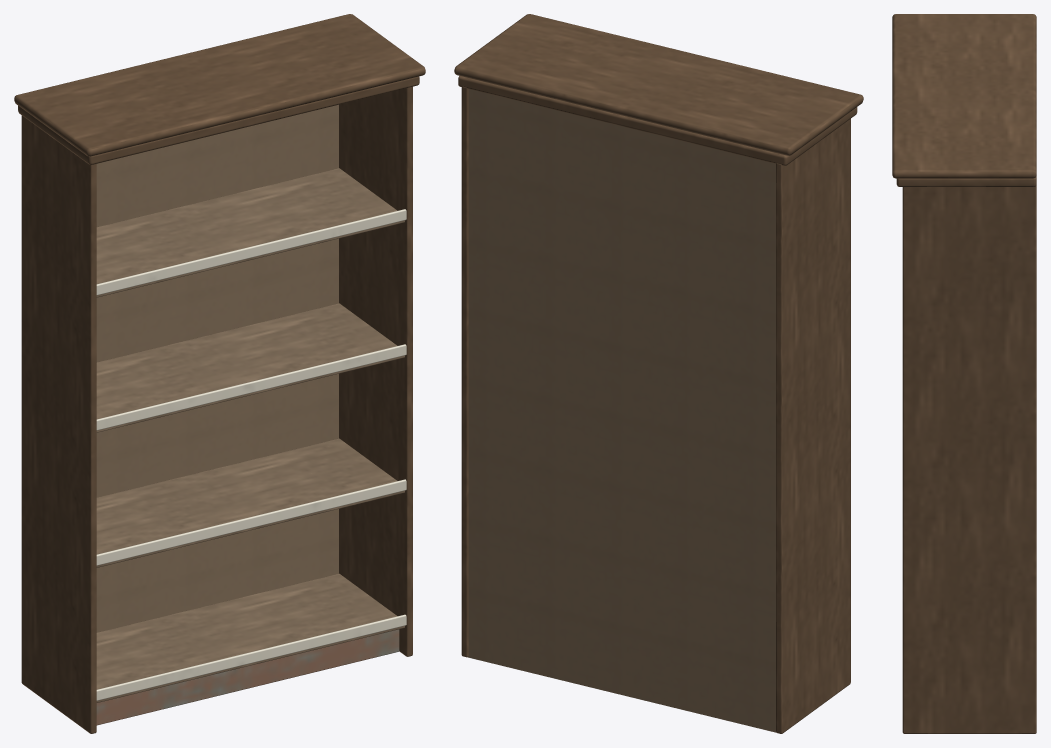
The model's file is Shop_WallShelf.fbx.
The picture shows the model from 3 angles, left to right: view 1: azimuth 30°, elevation 25°; view 2: azimuth 150°, elevation 25°; view 3: azimuth 270°, elevation 25°; orthographic projection. The views are drawn at different scales.
Parts seen in each view (by area): view 1: Shop_WallShelf; view 2: Shop_WallShelf; view 3: Shop_WallShelf.
Boxes of the visible parts, x1,y1,x2,y2 form: Shop_WallShelf: (14, 14, 425, 733); Shop_WallShelf: (454, 14, 863, 733); Shop_WallShelf: (892, 14, 1036, 733).
Bounding box in the file's own units: 1.26 × 2.1 × 0.485.
